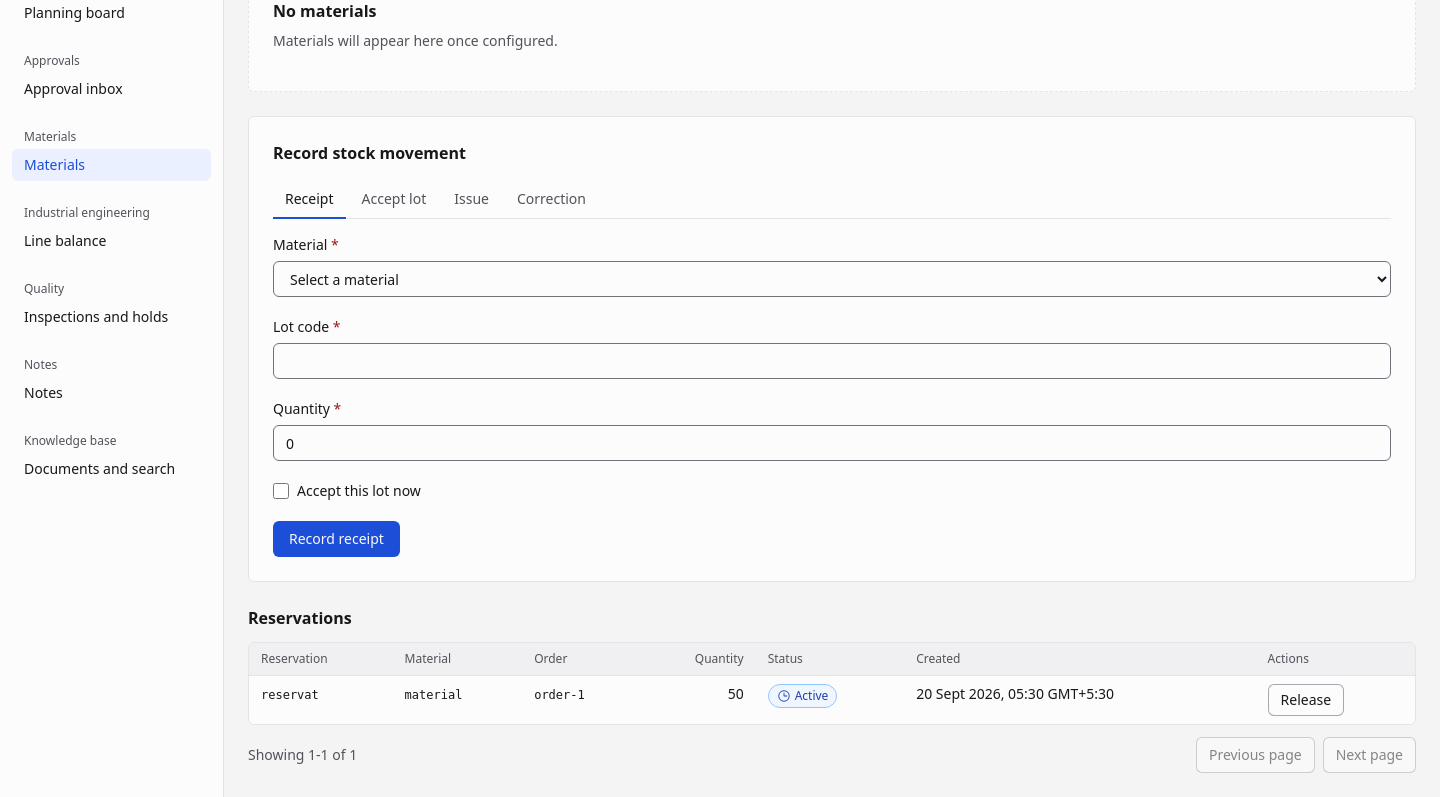
it: ReservationTable › closes the confirm dialog and shows the server error when release fails
(page scrolled)
Click the button "Release" at (1306, 700), box [1268,684,1344,716]
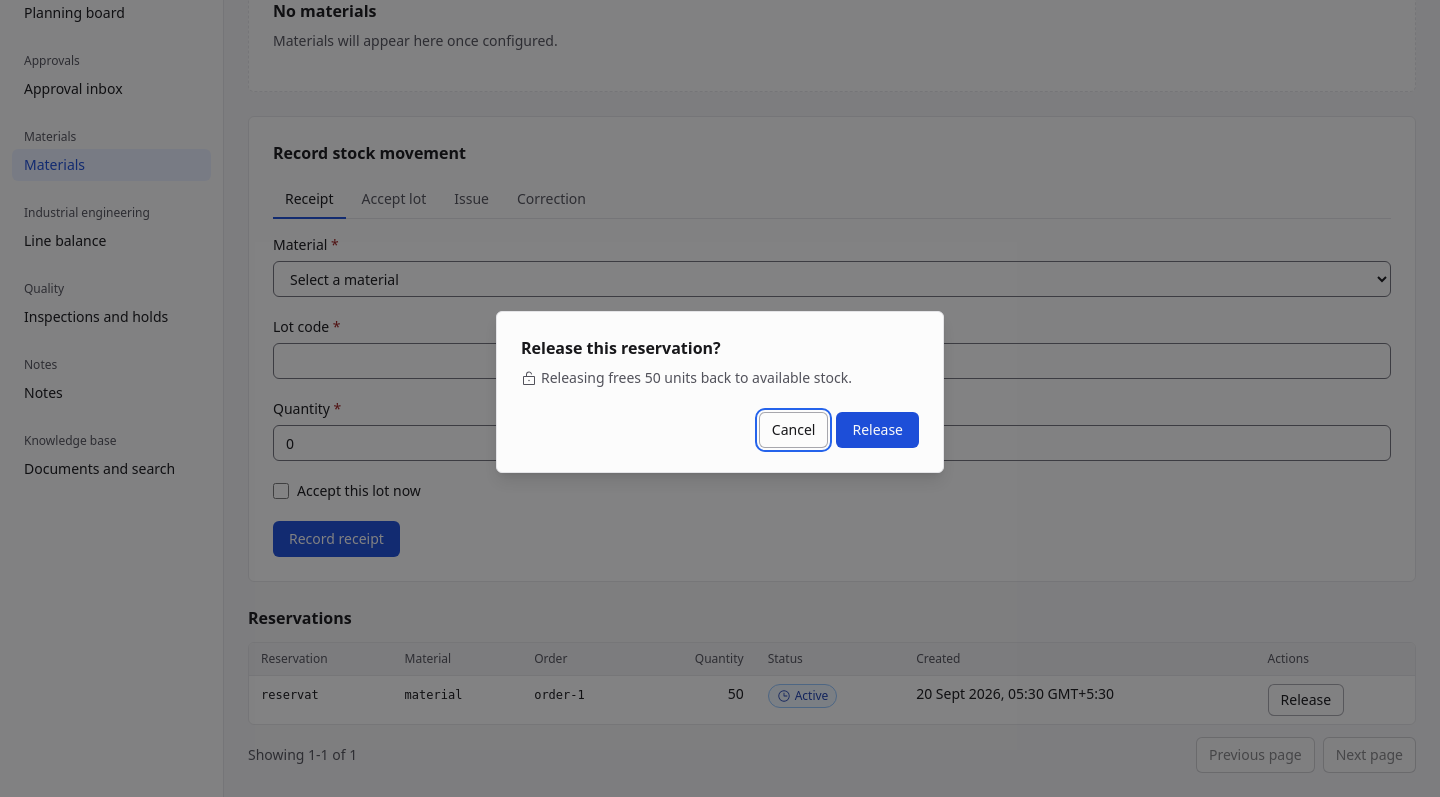
Click the button "Release" at (878, 430), box [836,412,919,448]
(page scrolled)
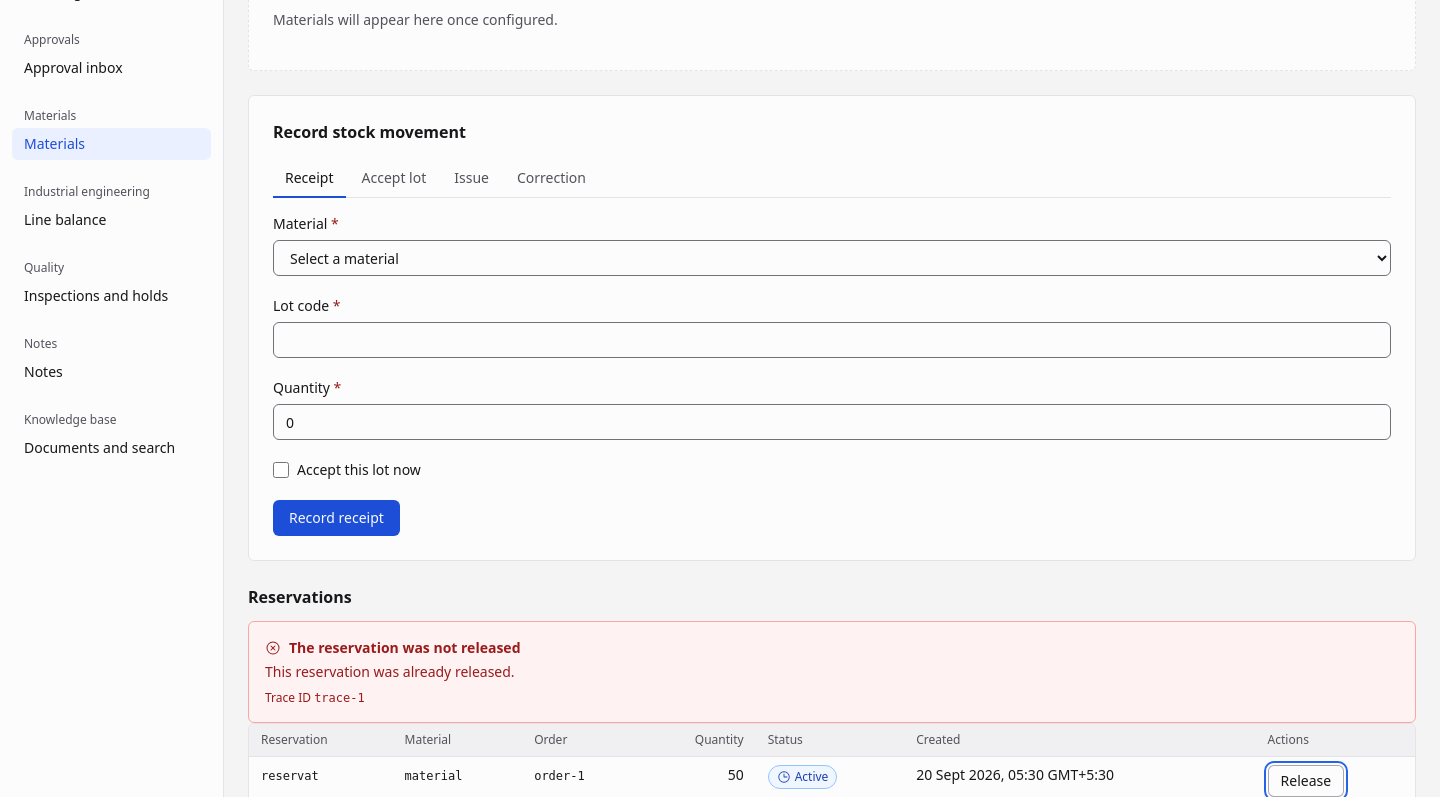
Now the text "This reservation was already released." is shown, box [265,662,515,681]
Now the dialog is gone
